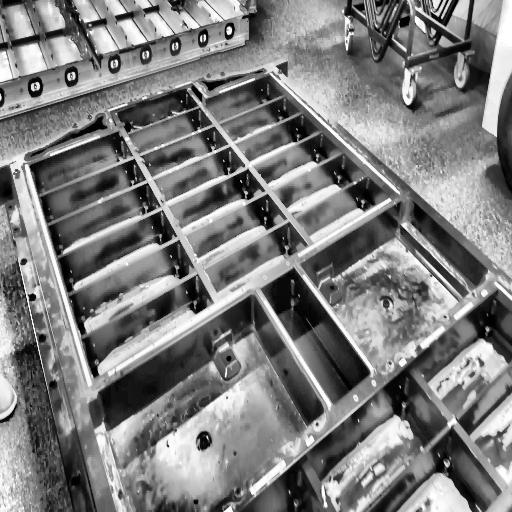b_casing: (10, 56, 512, 512)
